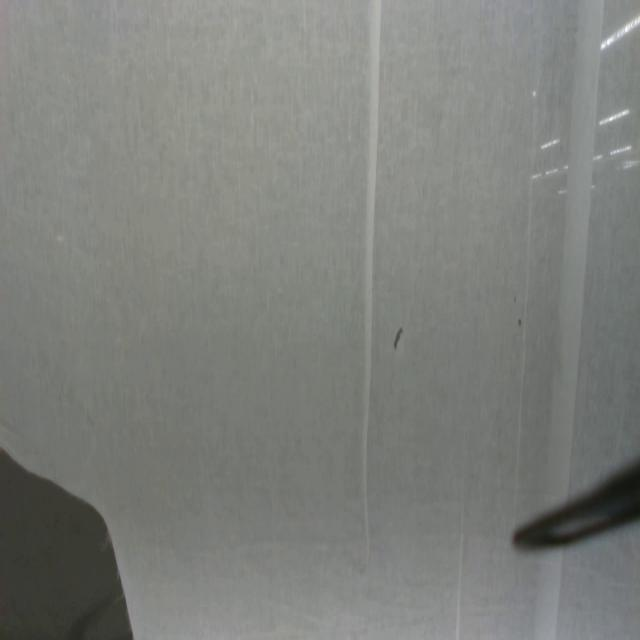crease: (553, 2, 604, 480), (362, 0, 382, 559), (512, 99, 538, 516), (536, 553, 566, 640), (454, 505, 466, 640)
hole: (0, 441, 136, 640), (393, 326, 405, 353), (518, 317, 524, 332), (512, 294, 518, 309)
